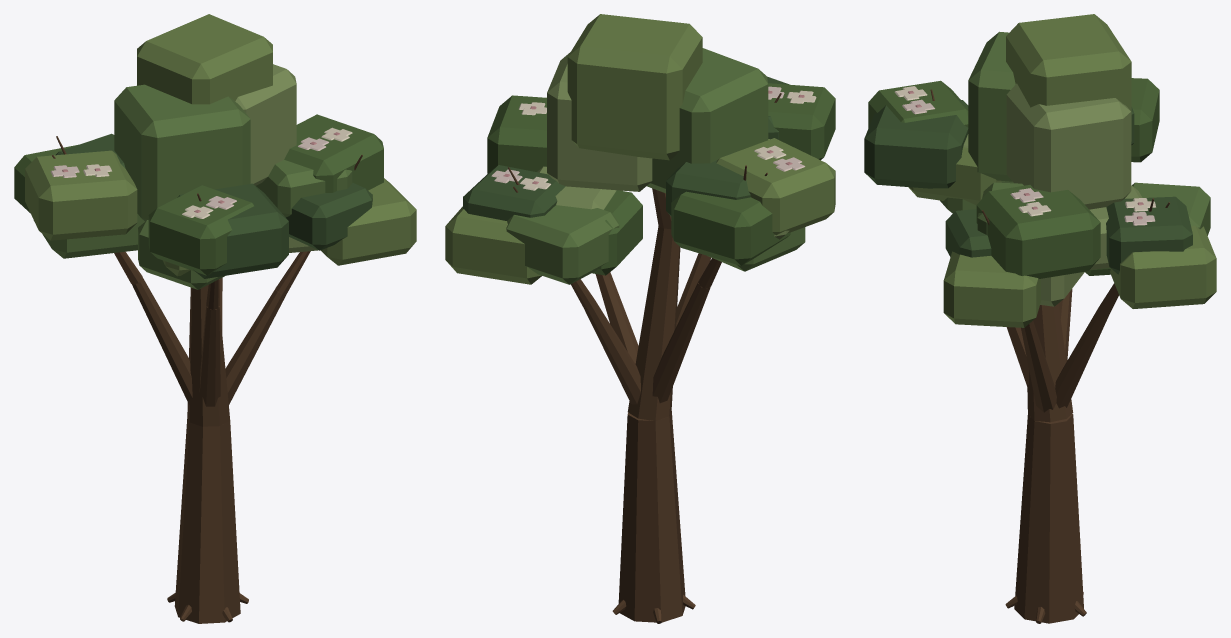
File: apple_sapling_spring.glb
3 views of the same model, side by side, from view 1: azimuth 30°, elevation 25°; view 2: azimuth 150°, elevation 25°; view 3: azimuth 270°, elevation 25° (orthographic). The views are drawn at different scales.
Parts seen in each view (by area): view 1: apple_sapling_spring; view 2: apple_sapling_spring; view 3: apple_sapling_spring.
Part boxes in pixels (x1,y1,x2,y2): apple_sapling_spring: [14, 14, 416, 623]; apple_sapling_spring: [445, 14, 835, 623]; apple_sapling_spring: [864, 14, 1216, 623].
Bounding box in the file's own units: 3.83 × 6 × 3.33.
